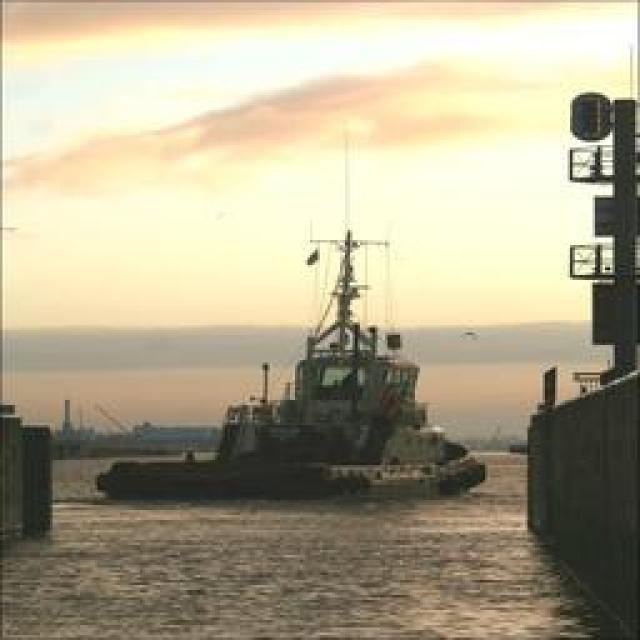CIV_Ship: (110, 205, 468, 500)
